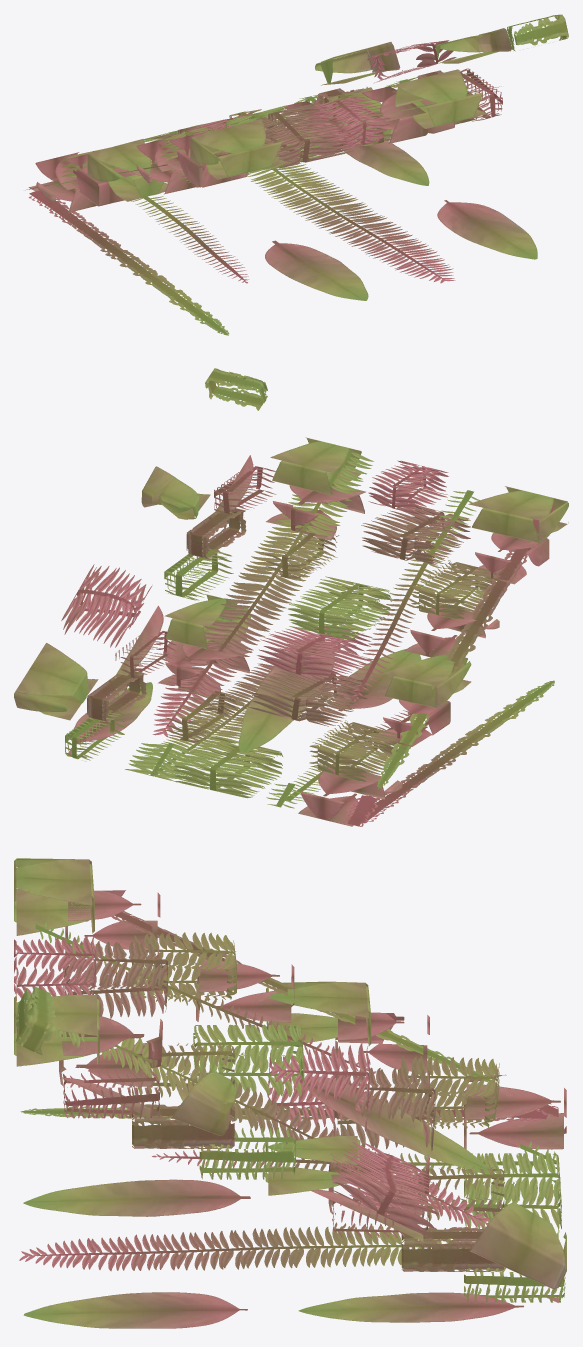
The picture shows the model from 3 angles, top to bottom: view 1: azimuth 30°, elevation 25°; view 2: azimuth 150°, elevation 25°; view 3: azimuth 270°, elevation 25°; orthographic projection. The views are drawn at different scales.
Parts seen in each view (by area): view 1: SM_DR_SwampFern_02_LOD0; view 2: SM_DR_SwampFern_02_LOD0; view 3: SM_DR_SwampFern_02_LOD0.
Part boxes in pixels (x1=…): SM_DR_SwampFern_02_LOD0: x1=25, y1=14, x2=568, y2=335; SM_DR_SwampFern_02_LOD0: x1=14, y1=368, x2=568, y2=826; SM_DR_SwampFern_02_LOD0: x1=14, y1=858, x2=566, y2=1328.
Bounding box in the file's own units: 4.1 × 2.58 × 4.1.
